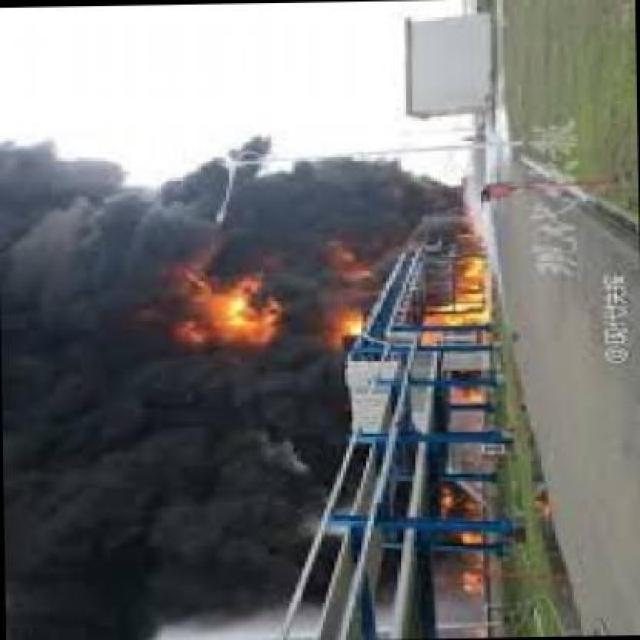Fire: (326, 240, 497, 350), (168, 263, 286, 356), (440, 471, 504, 598)
Smoke: (9, 355, 343, 640), (4, 133, 172, 358), (160, 160, 468, 232)
